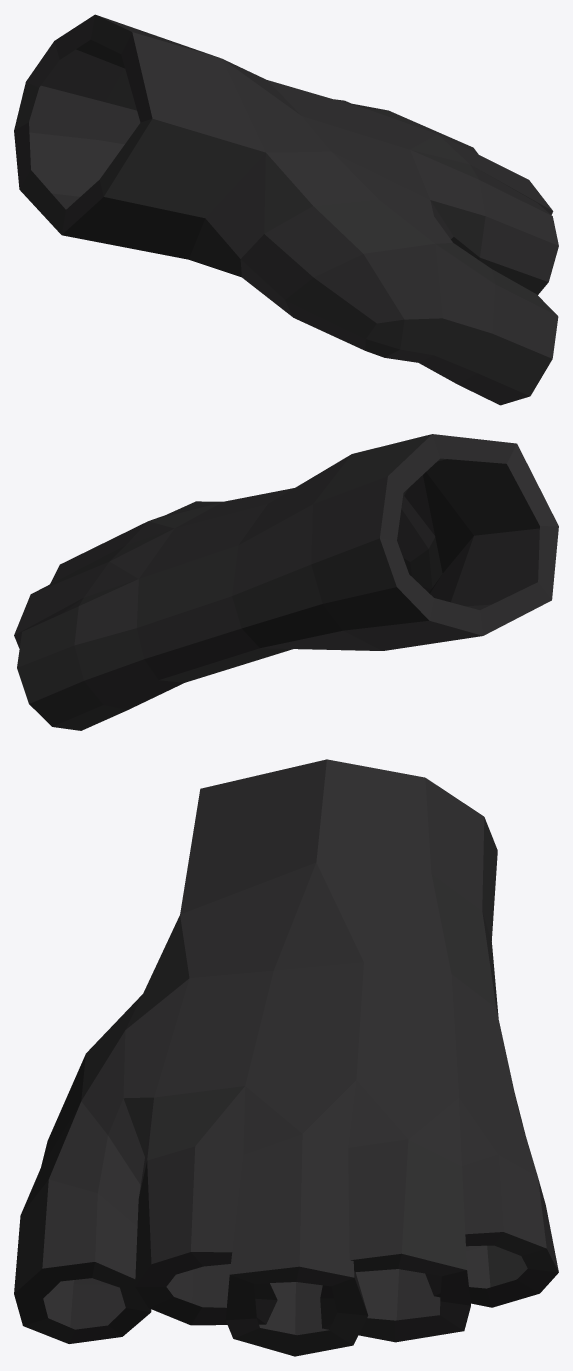
The model's file is Glove_Fingerless_L.fbx.
3 renders of one model, top to bottom at view 1: azimuth 30°, elevation 25°; view 2: azimuth 150°, elevation 25°; view 3: azimuth 270°, elevation 25°, orthographic. The views are drawn at different scales.
Parts seen in each view (by area): view 1: Glove_Fingerless_L; view 2: Glove_Fingerless_L; view 3: Glove_Fingerless_L.
Part boxes in pixels (x1,y1,x2,y2): Glove_Fingerless_L: [14, 14, 558, 405]; Glove_Fingerless_L: [14, 434, 558, 730]; Glove_Fingerless_L: [14, 759, 558, 1356].
Size of the model in its own units: 15.22 by 10.85 by 12.42.
1 material, 1 textured.
